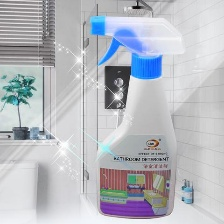cleaning_solution: (87, 12, 188, 221)
